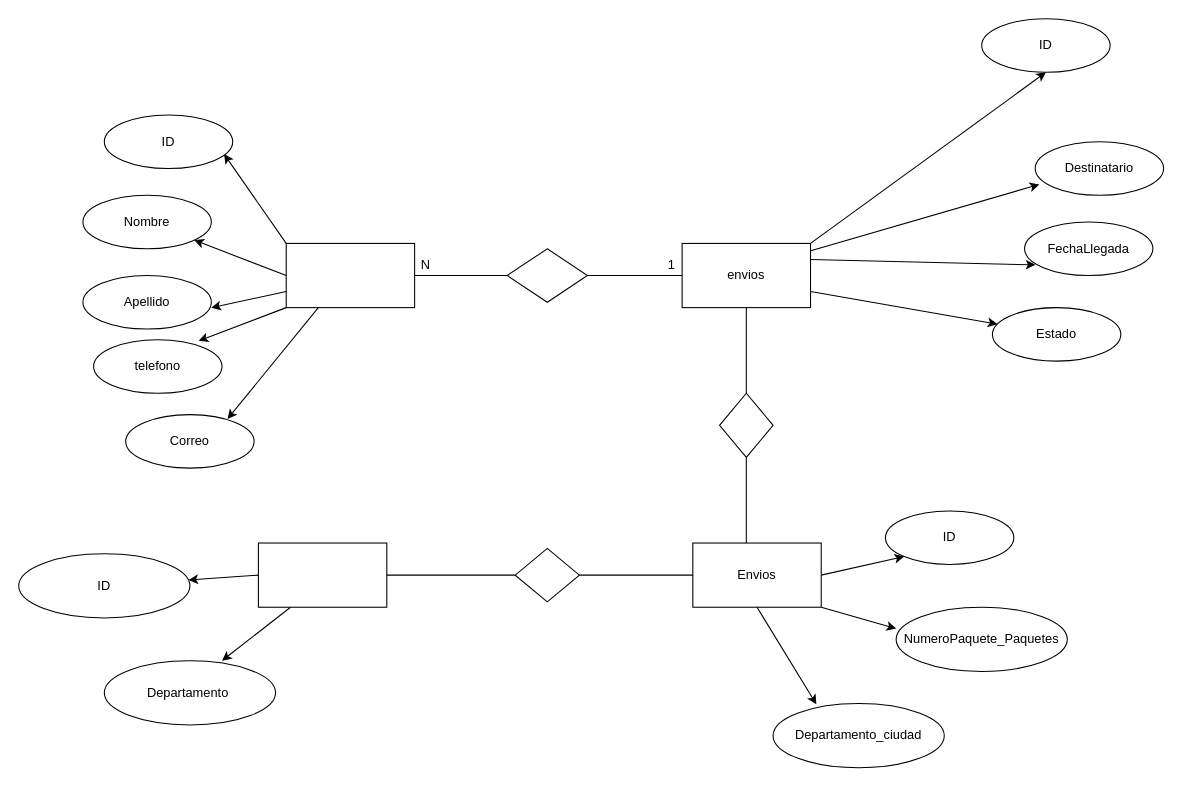
Image size: 1182x786. Some labels were removed from this diagram. The shapes that lost their labels are listed below. From the top down, each one's box as (x1, y1, x2, y2) in pixels, then its label:
(285, 242, 415, 308): Cliente
(257, 542, 387, 607): Ciudad
